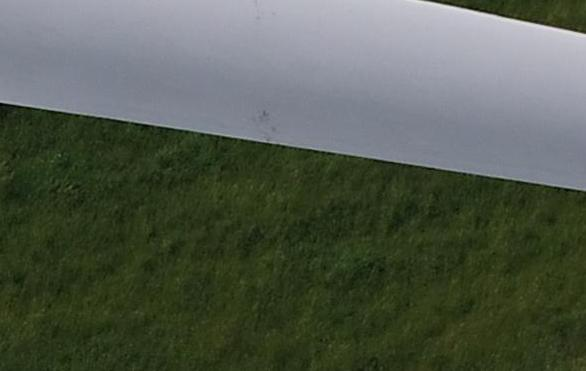damage: (255, 111, 279, 141)
